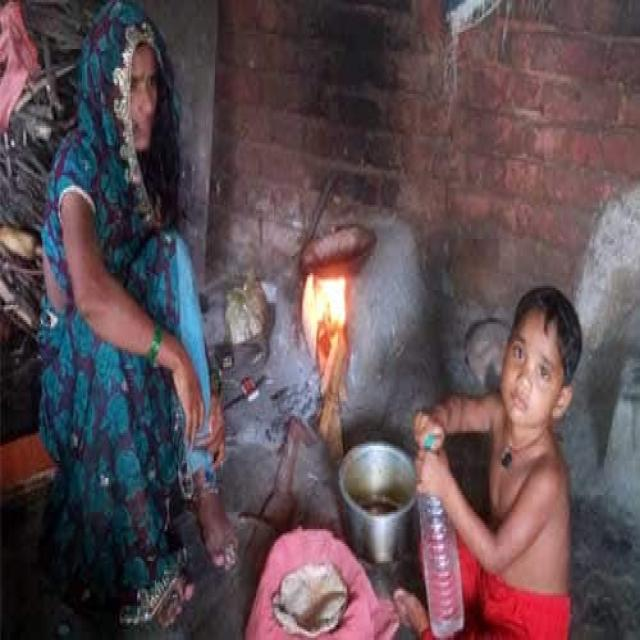fire: (302, 272, 346, 364)
